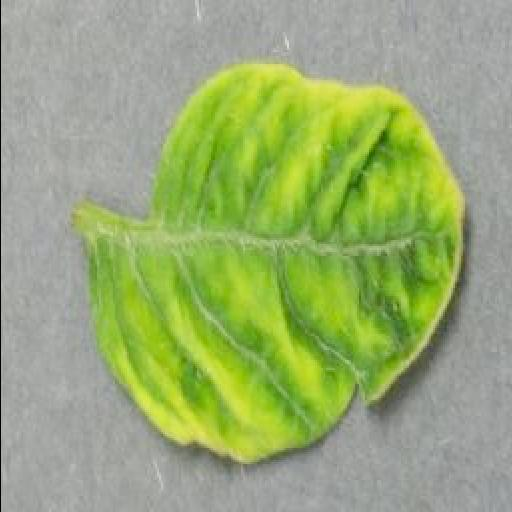disease_tomato: (82, 60, 466, 470)
